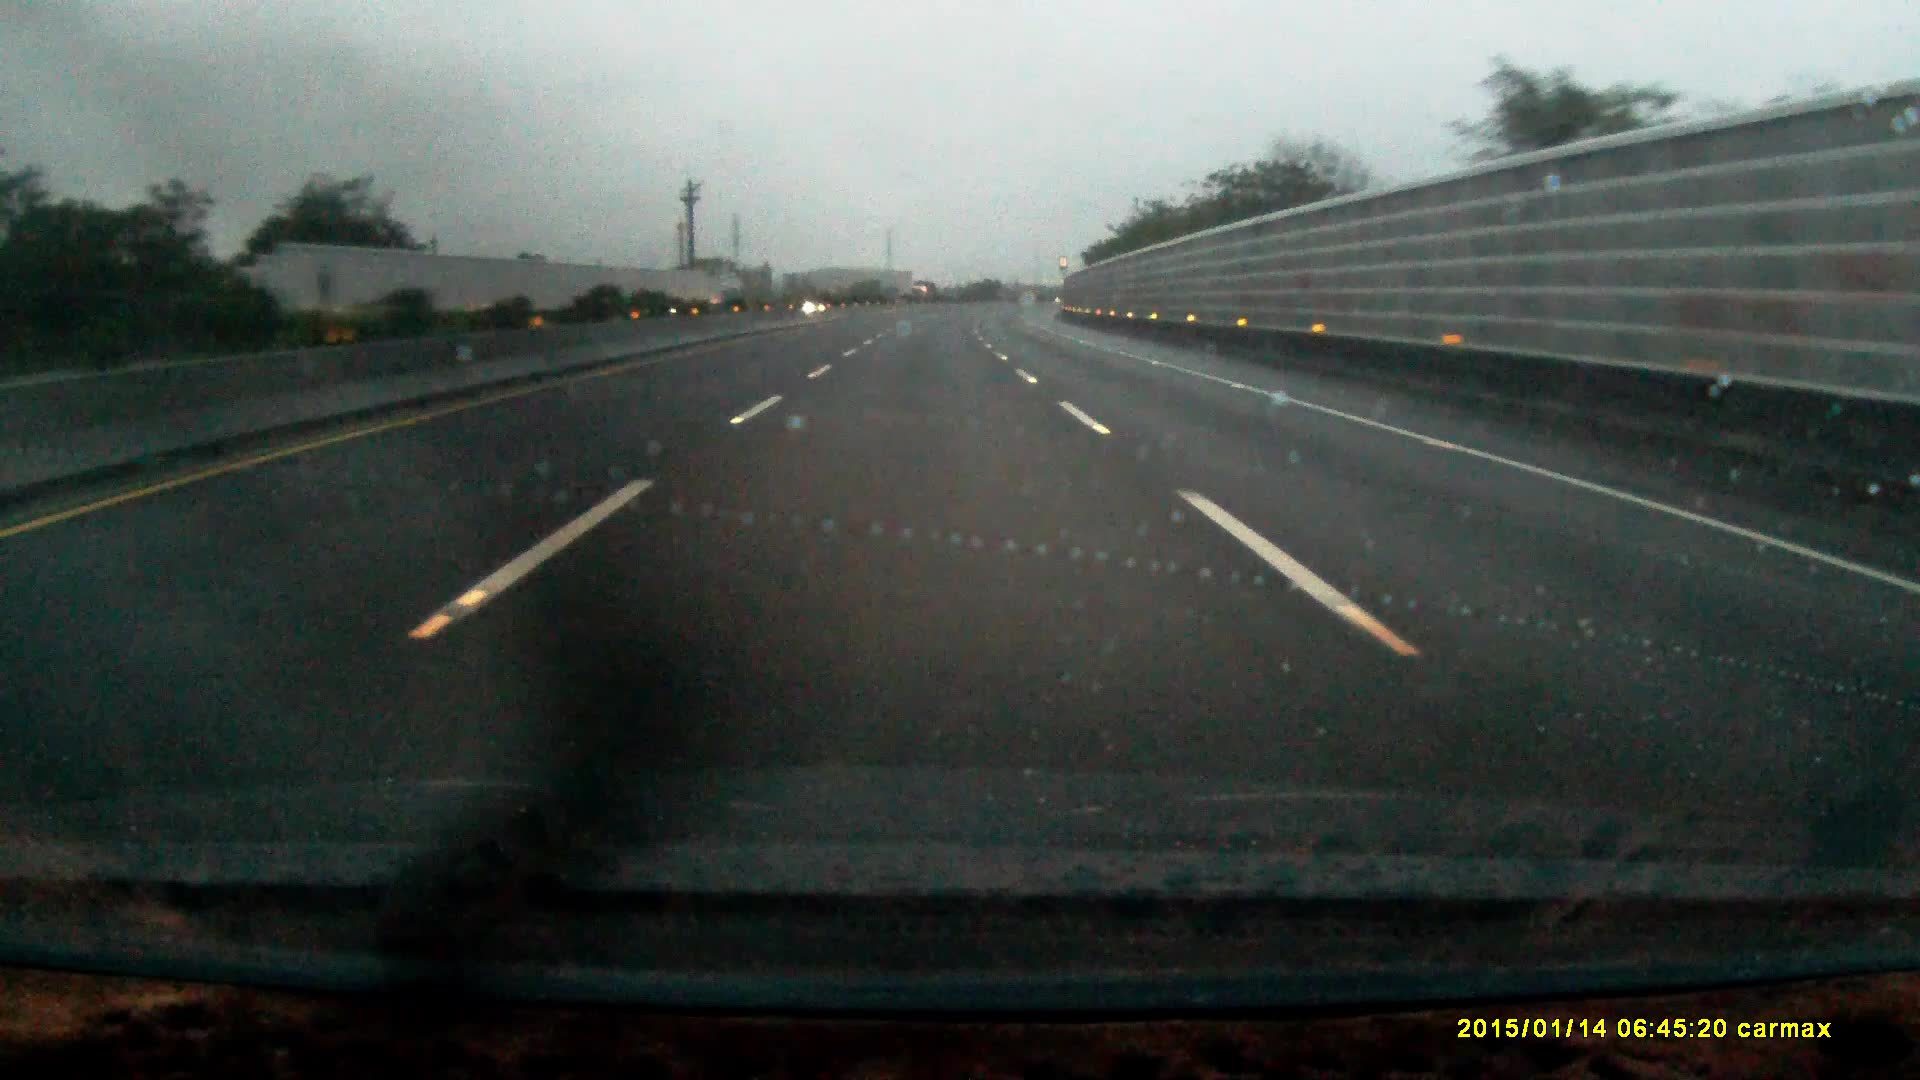vehicle: (910, 280, 936, 302)
